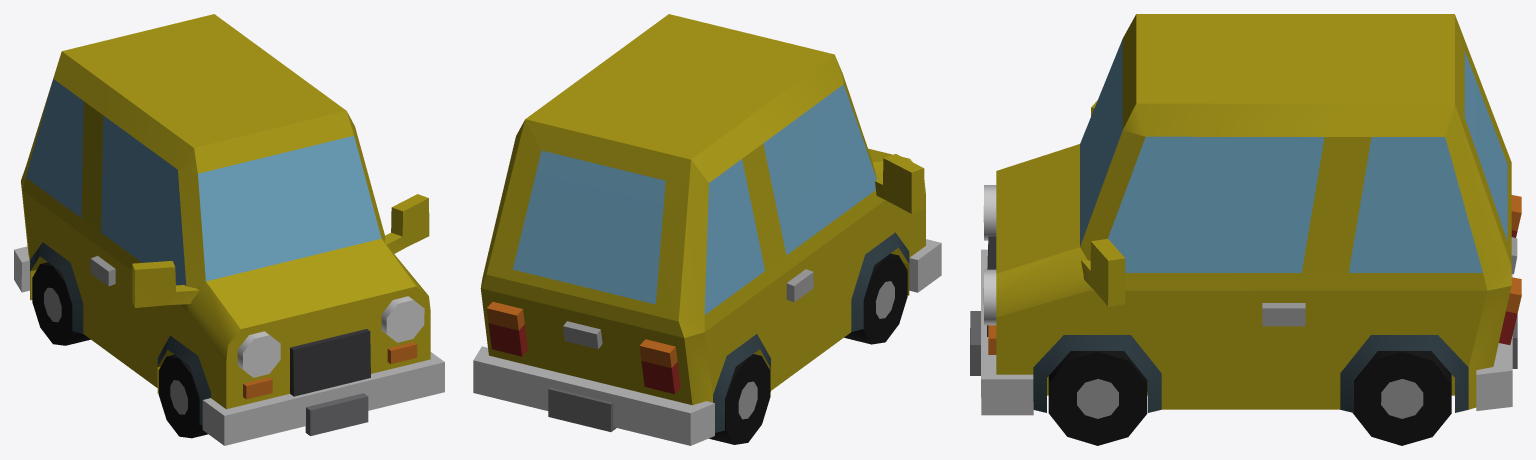
The model's file is Car_019.fbx.
3 views of the same model, side by side, from view 1: azimuth 30°, elevation 25°; view 2: azimuth 150°, elevation 25°; view 3: azimuth 270°, elevation 25° (orthographic). The views are drawn at different scales.
Parts seen in each view (by area): view 1: Car_019; view 2: Car_019; view 3: Car_019.
Boxes of the visible parts, box(x1,y1,x2,y2) form: Car_019: box(14, 14, 444, 445); Car_019: box(473, 14, 941, 445); Car_019: box(970, 14, 1521, 445).
Bounding box in the file's own units: 126 × 110 × 170.
